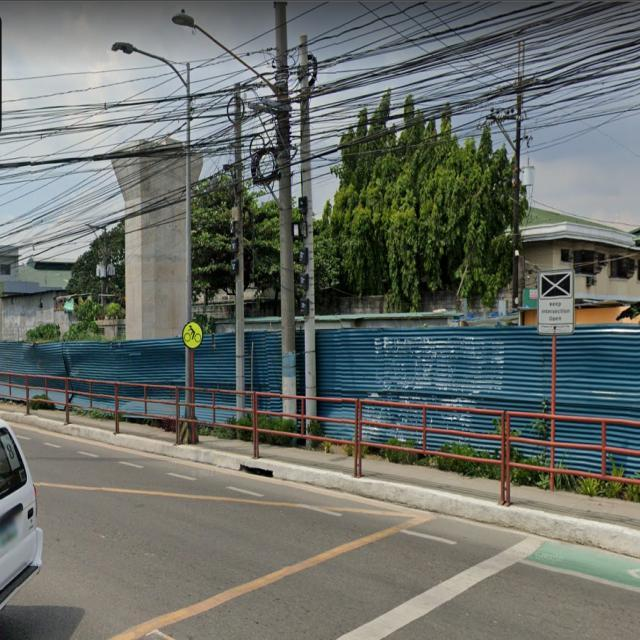bike lane: (174, 314, 210, 358)
